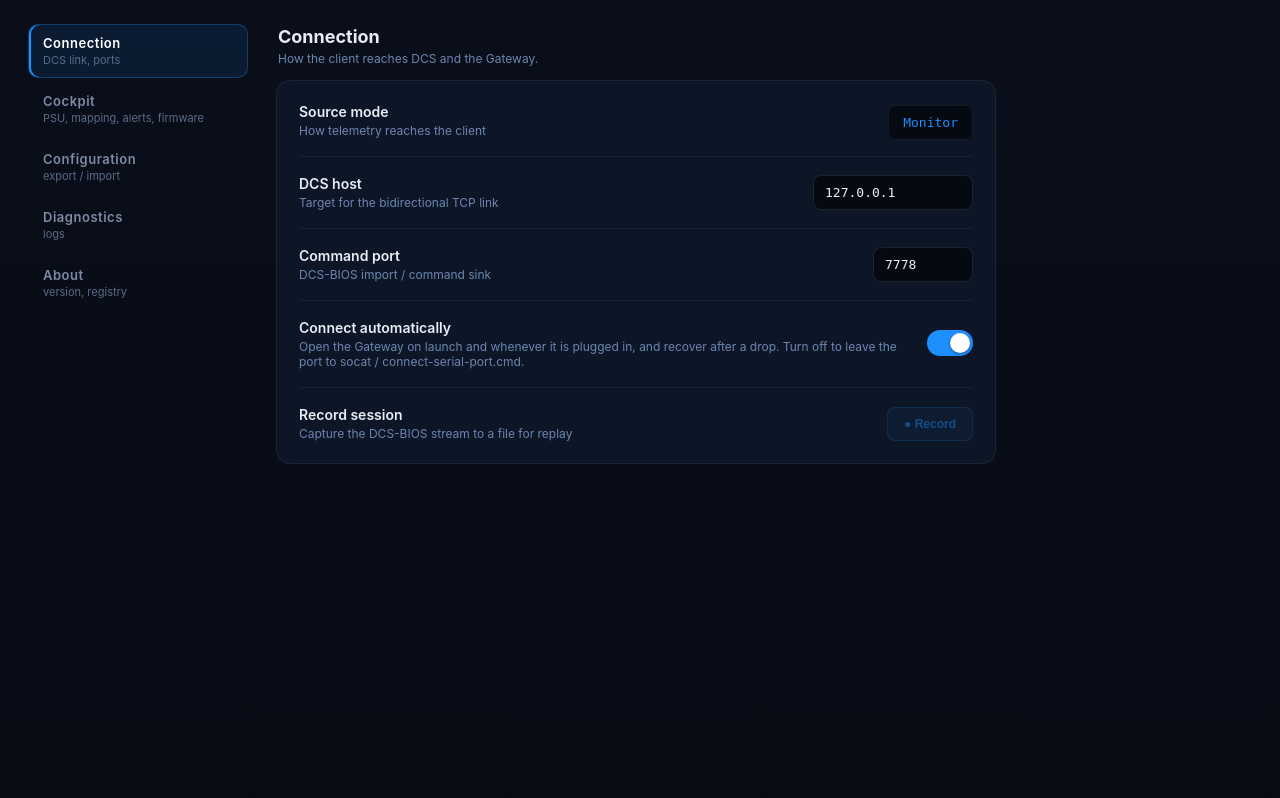
Test: T29 Settings › Cockpit › Power supply (B87) › NX650: 54 A / 20 A / 650 W, read-only, from the preset
Click the button "Cockpit PSU, mapping, alerts, firmware". click: (138, 109)
box: [28,82,248,136]
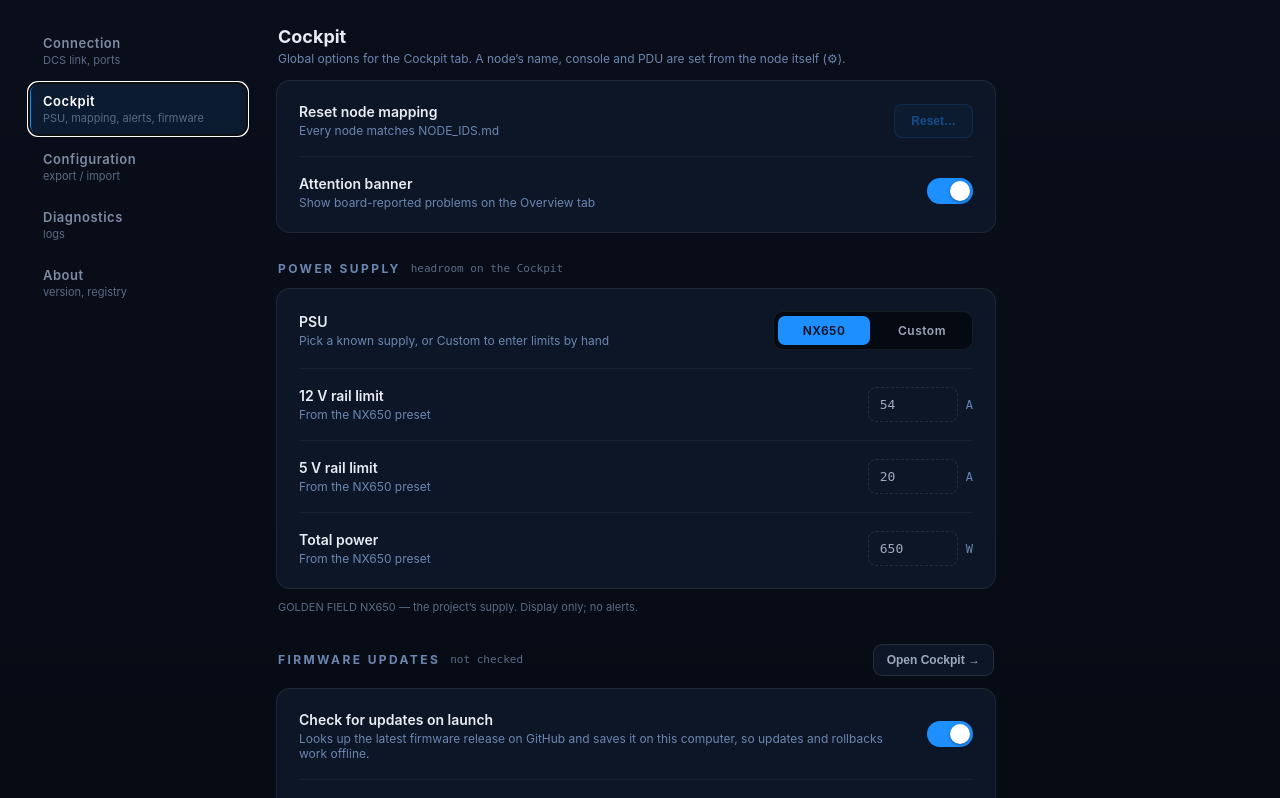
Now the text "From the NX650 preset" is shown 3 times, box [299,407,431,422]; [299,479,431,494]; [299,551,431,566]
Now the text "GOLDEN FIELD NX650 — the project’s supply. Display only; no alerts." is shown, box [278,600,638,614]
